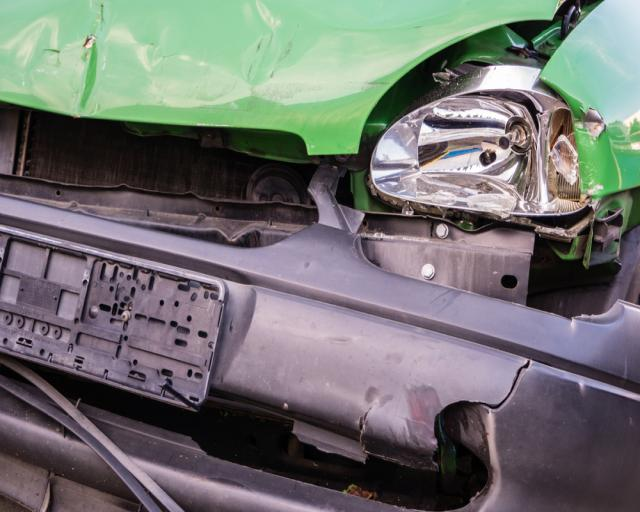crack: (432, 359, 532, 467)
dent: (565, 92, 606, 190)
lamp broken: (372, 85, 592, 214)
